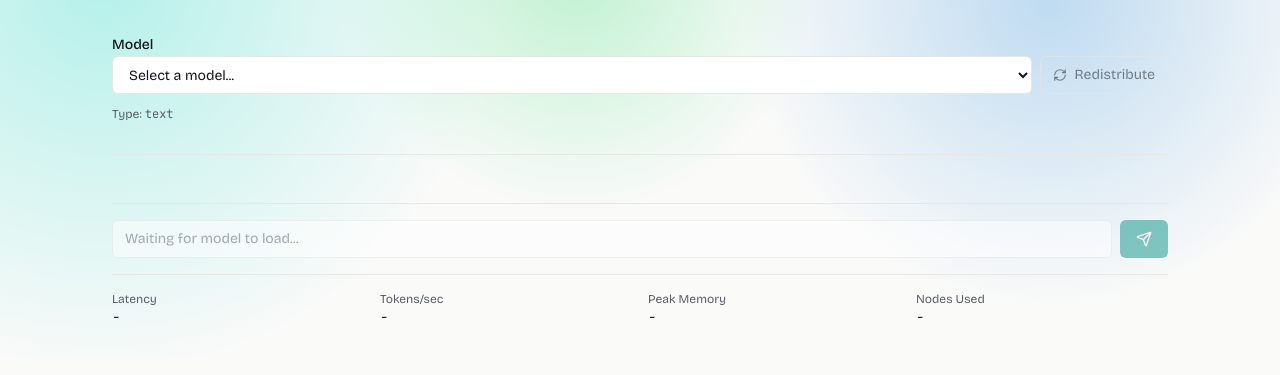
Inference › shows a loading message while the model preloads, disabling the input
Select "dummy-mamba-tiny" in the dropdown labelled "Model" at (572, 75), box [112,56,1032,94]
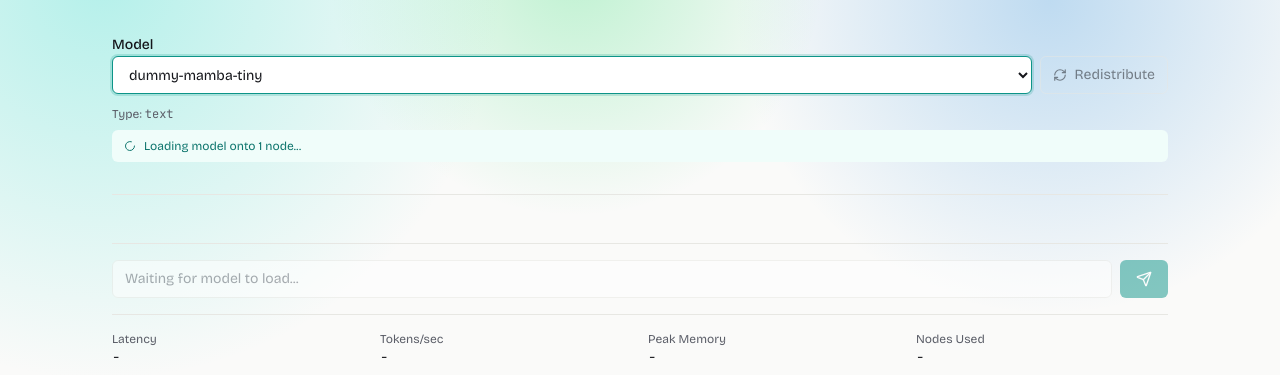
Expected: the field with placeholder "Waiting for model to load..." is disabled, [112,260,1112,298]
Now the text "Loading model onto 1 node..." is shown, box [112,130,1168,162]
